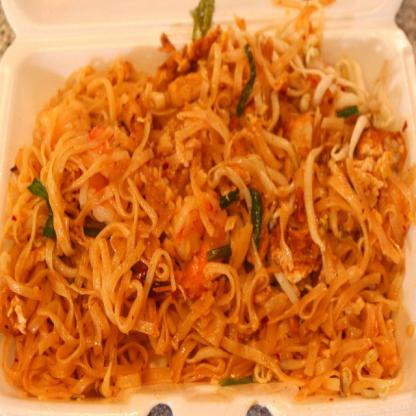Pad Thai: (6, 35, 416, 410)
